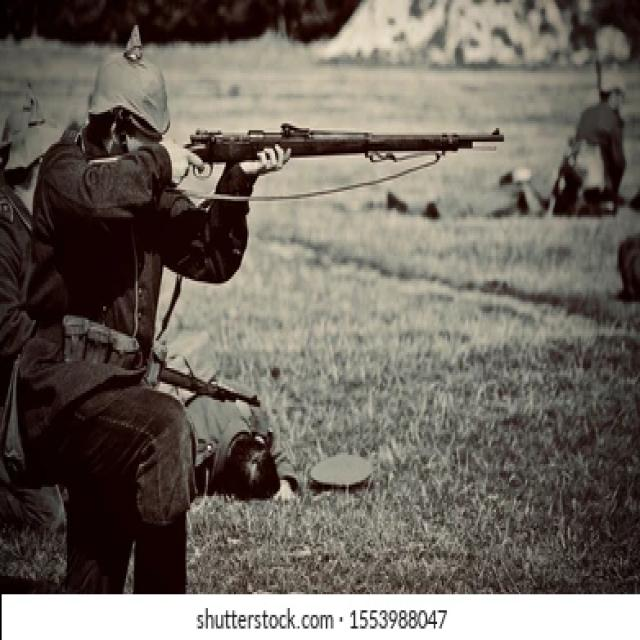soldier: (1, 47, 509, 594)
